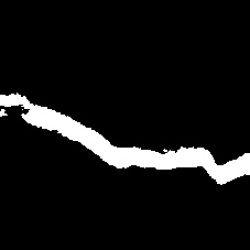crack: (2, 93, 245, 184)
